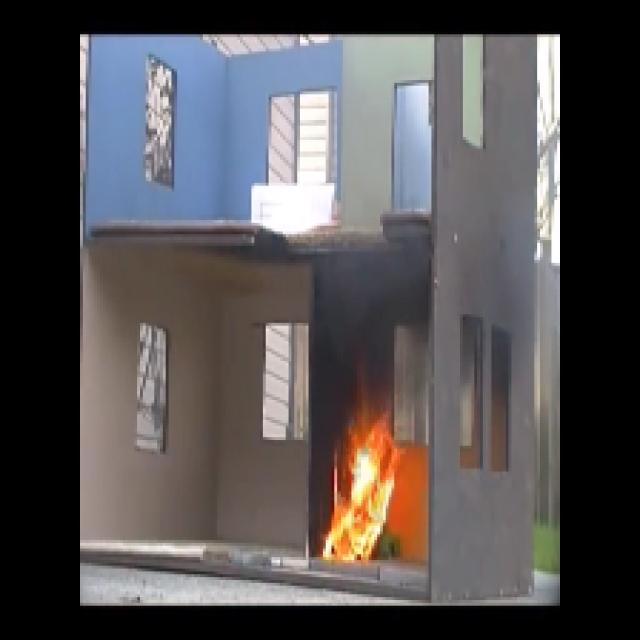fire: (329, 423, 396, 556)
